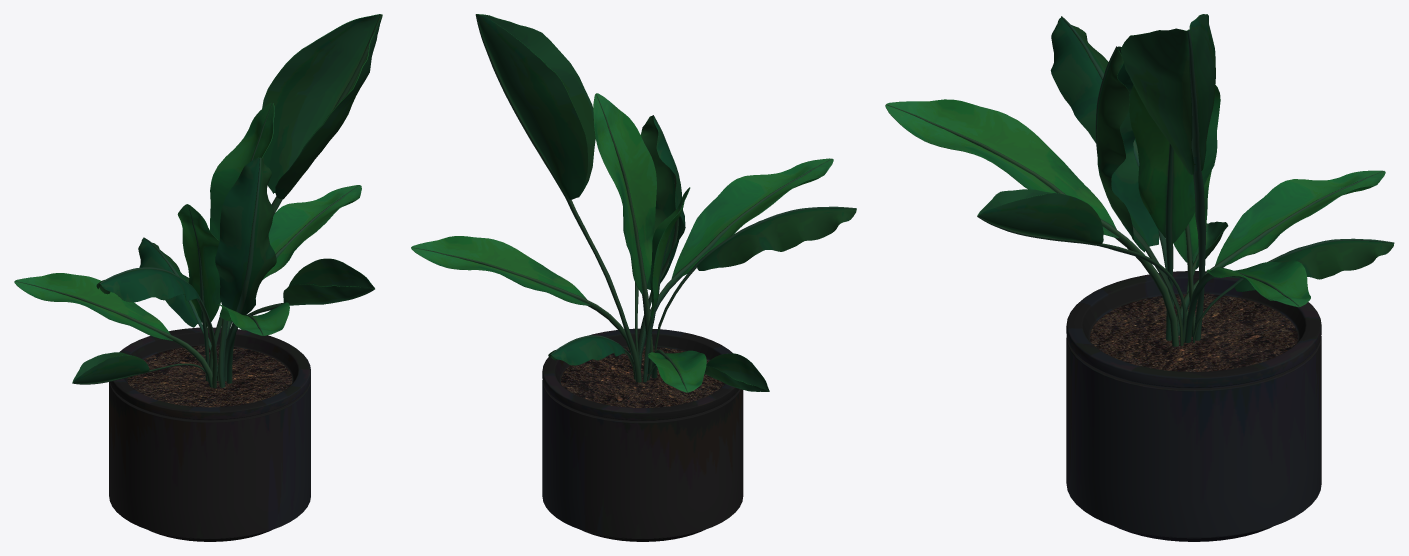
Rendered from office plant.fbx.
3 views of the same model, side by side, from view 1: azimuth 30°, elevation 25°; view 2: azimuth 150°, elevation 25°; view 3: azimuth 270°, elevation 25° (orthographic). The views are drawn at different scales.
Parts seen in each view (by area): view 1: node_id30; view 2: node_id30; view 3: node_id30.
Boxes of the visible parts, box(x1,y1,x2,y2) form: node_id30: box(14, 14, 382, 541); node_id30: box(411, 14, 856, 541); node_id30: box(885, 14, 1394, 541).
Bounding box in the file's own units: 0.4196 × 0.512 × 0.4125.
1 material, 1 textured.
